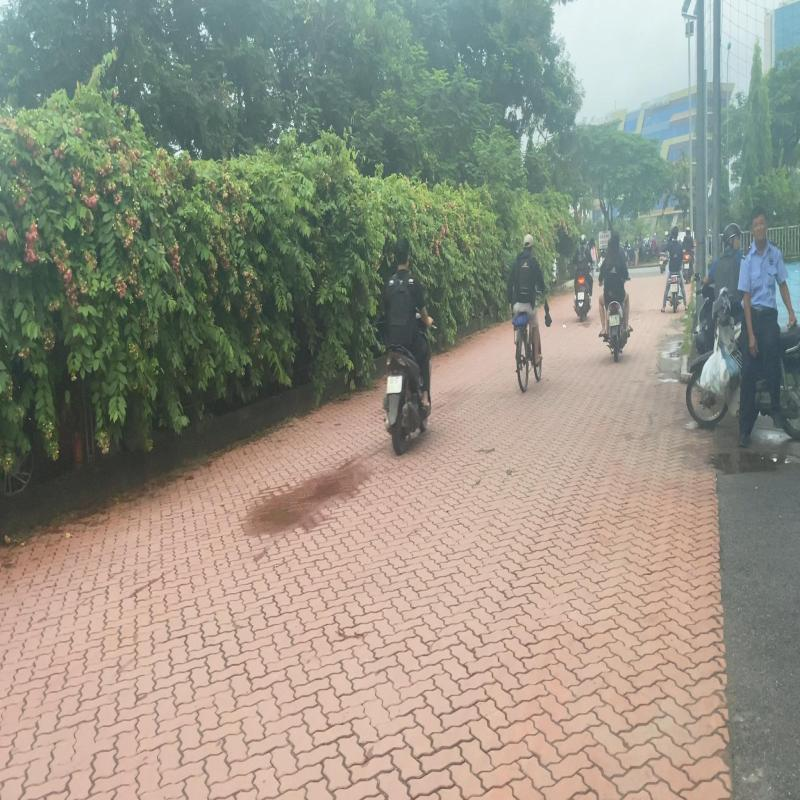licenseplate: (388, 376, 403, 394)
motorcyclist: (381, 235, 438, 458)
nohelmet: (395, 237, 409, 268)
